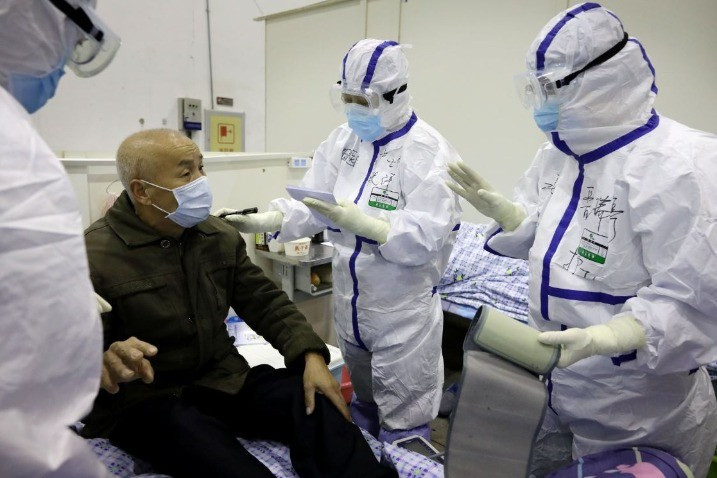Coverall: (509, 2, 717, 470), (298, 38, 458, 431), (1, 1, 109, 477)
Gloves: (537, 310, 646, 377), (444, 158, 525, 240), (299, 192, 390, 249), (210, 207, 288, 235)
Goggles: (40, 1, 126, 81), (319, 81, 384, 119), (512, 70, 560, 113)
with_mask: (12, 30, 82, 118), (158, 155, 214, 230), (344, 90, 381, 141), (530, 79, 557, 134)
